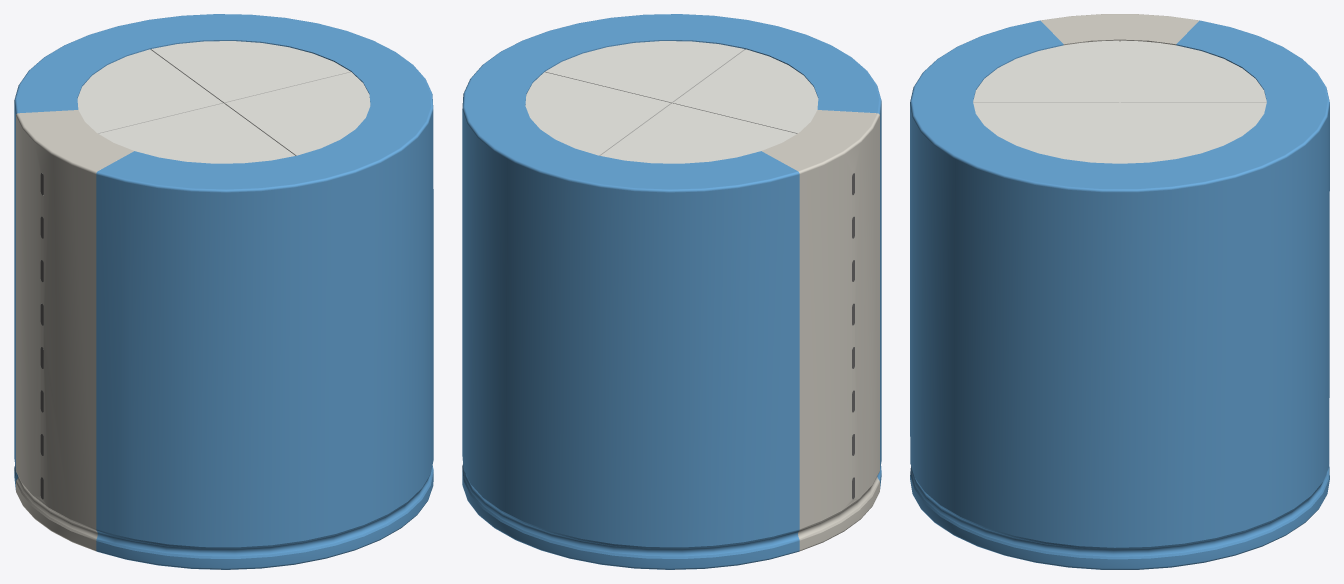
File: kc-cp_radial_d35.0mm_p10.00mm_3pin_snapin.glb
3 views of the same model, side by side, from view 1: azimuth 30°, elevation 25°; view 2: azimuth 150°, elevation 25°; view 3: azimuth 270°, elevation 25° (orthographic).
Visible parts, largest first — view 1: 0.16666666666666666_0.4166666666666667_0.75_0, 0.6666666666666666_0.6666666666666666_0.5833333333333334_0, 0.8333333333333334_0.8333333333333334_0.75_0.85, 0.16666666666666666_0.16666666666666666_0.16666666666666666_; view 2: 0.16666666666666666_0.4166666666666667_0.75_0, 0.6666666666666666_0.6666666666666666_0.5833333333333334_0, 0.8333333333333334_0.8333333333333334_0.75_0.85; view 3: 0.16666666666666666_0.4166666666666667_0.75_0, 0.8333333333333334_0.8333333333333334_0.75_0.85, 0.6666666666666666_0.6666666666666666_0.5833333333333334_0.
Boxes of the visible parts, left/top/right/bottom form: 0.16666666666666666_0.4166666666666667_0.75_0: left=14, top=14, right=433, bottom=569; 0.6666666666666666_0.6666666666666666_0.5833333333333334_0: left=16, top=110, right=133, bottom=551; 0.8333333333333334_0.8333333333333334_0.75_0.85: left=77, top=41, right=370, bottom=163; 0.16666666666666666_0.16666666666666666_0.16666666666666666_: left=40, top=173, right=43, bottom=499; 0.16666666666666666_0.4166666666666667_0.75_0: left=462, top=14, right=881, bottom=569; 0.6666666666666666_0.6666666666666666_0.5833333333333334_0: left=762, top=110, right=879, bottom=551; 0.8333333333333334_0.8333333333333334_0.75_0.85: left=525, top=41, right=818, bottom=163; 0.16666666666666666_0.4166666666666667_0.75_0: left=910, top=20, right=1329, bottom=569; 0.8333333333333334_0.8333333333333334_0.75_0.85: left=973, top=40, right=1266, bottom=163; 0.6666666666666666_0.6666666666666666_0.5833333333333334_0: left=1040, top=14, right=1199, bottom=45.
Size of the model in its own units: 3.5 by 3.7 by 3.5.
